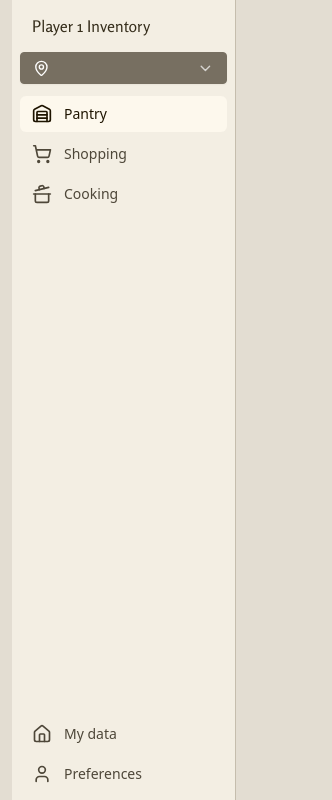
Scenario: Sidebar › user in E2E cloud mode sees Preferences and the test user id, and Clerk is never asked
The width and height of the screenshot is (332, 800).
// When the user presses 👤 Preferences
Click the button "Preferences" at point(124, 774), box [20,756,227,792]
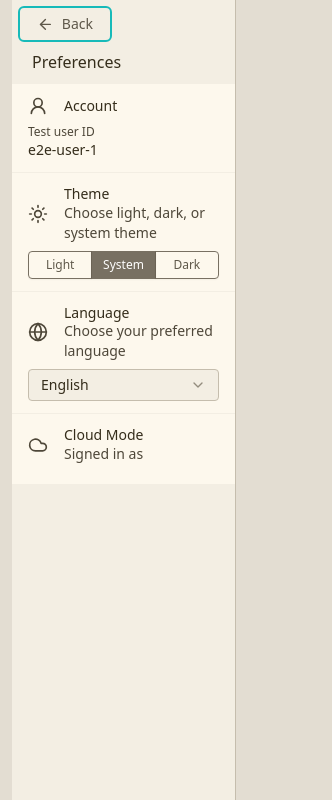
Result: the text "e2e-user-1" is shown at [28,140,98,159]
